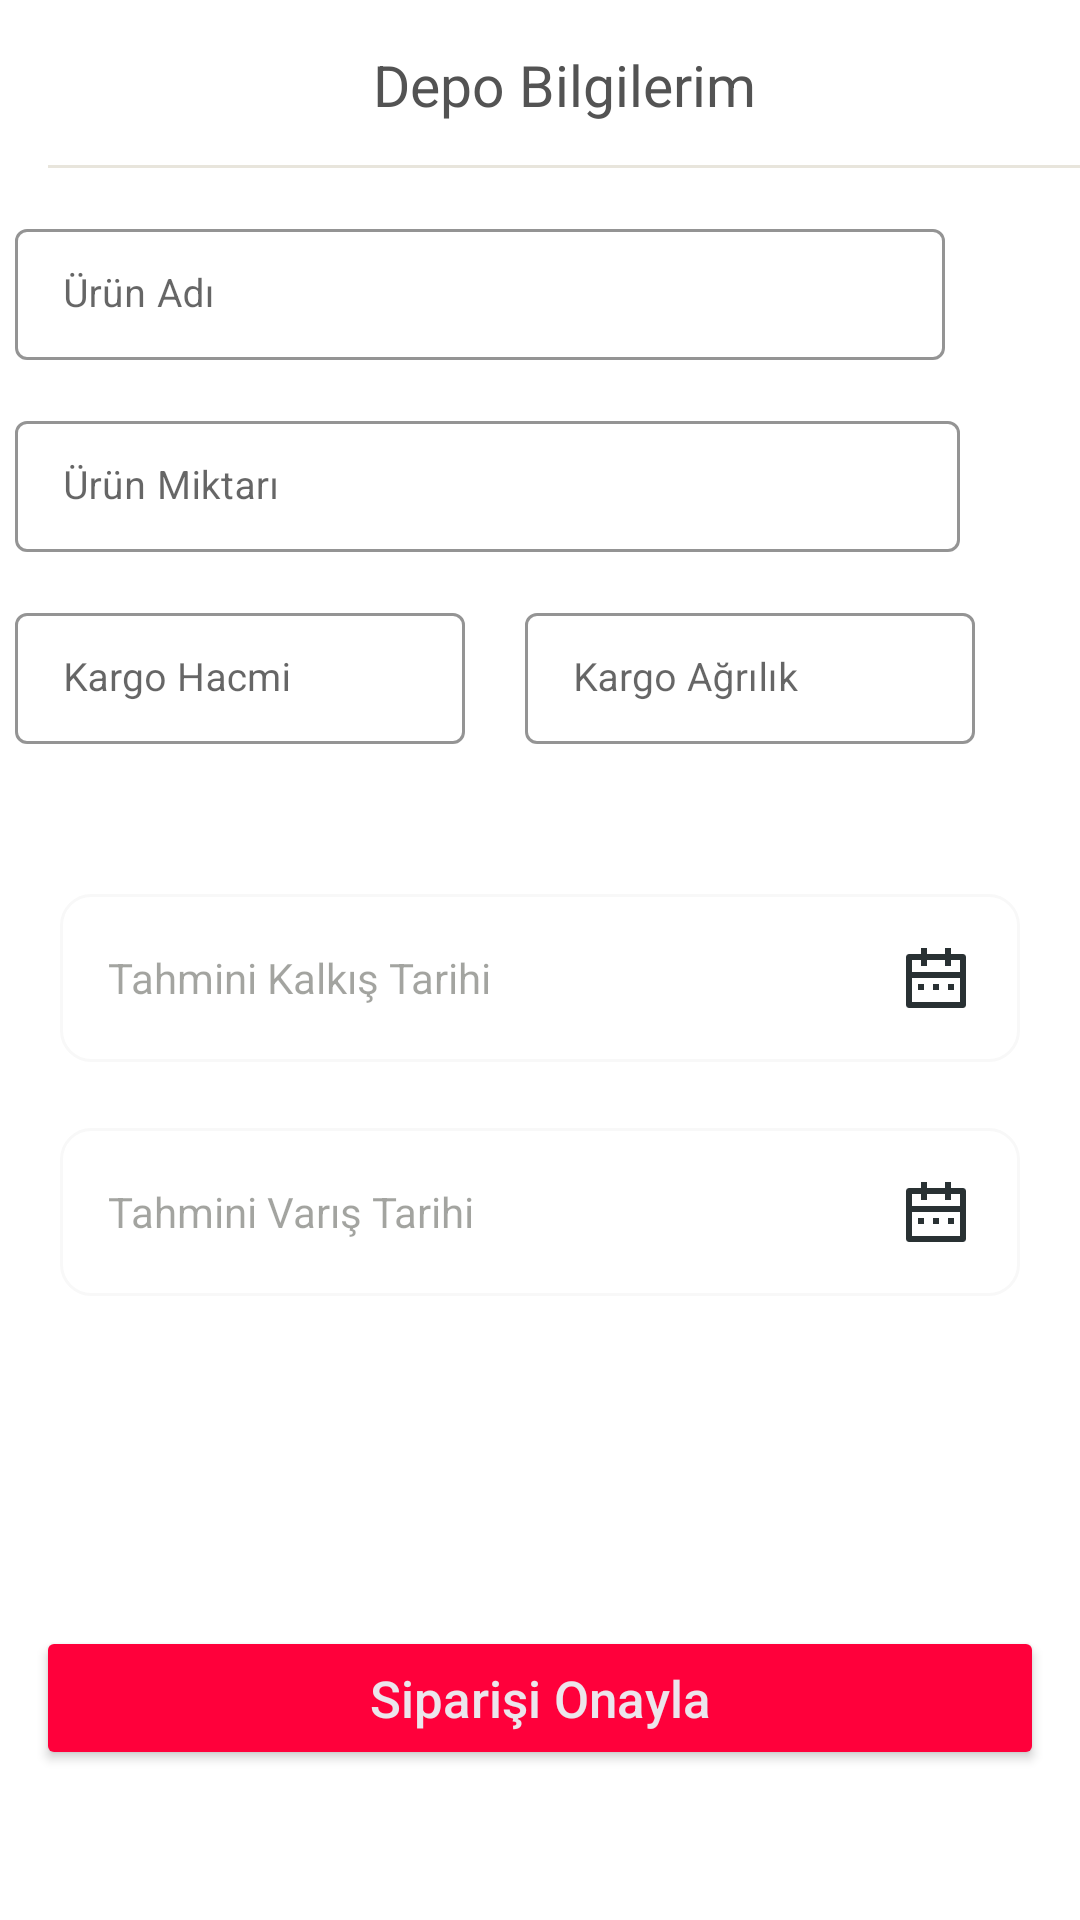

Icons on this 1080 × 1920 Android screen, each with its box as (x1, y1, x2, y2):
calendar: (906, 948, 966, 1008), (906, 1182, 966, 1242)
